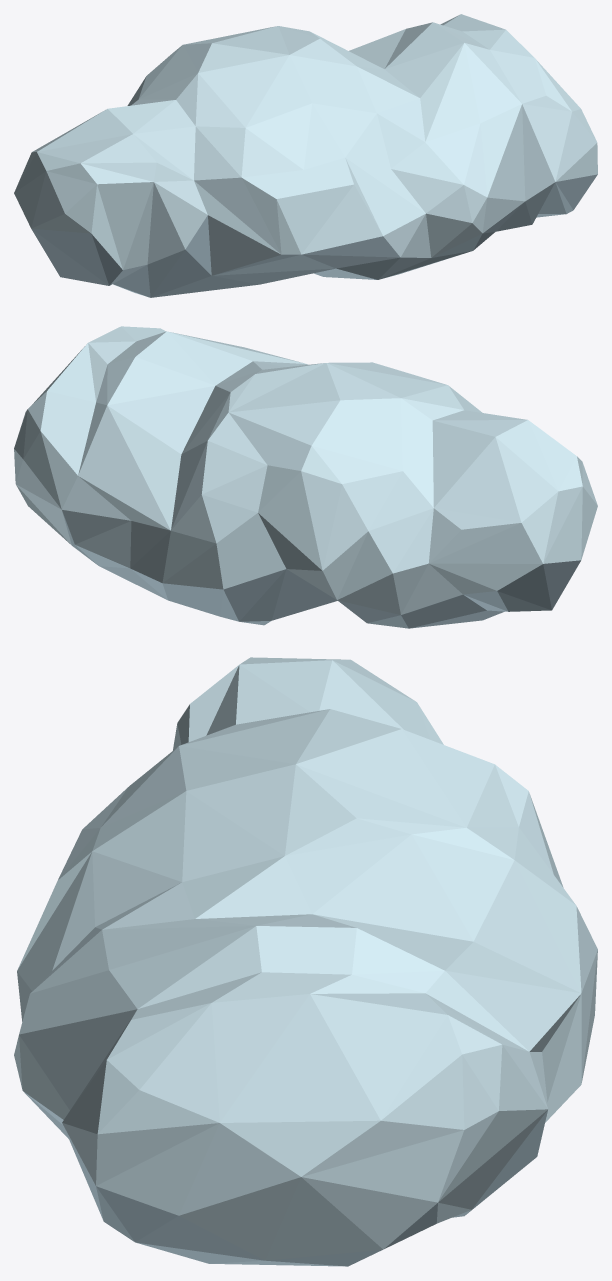
File: SM_Env_Cloud_04.fbx
3 renders of one model, top to bottom at view 1: azimuth 30°, elevation 25°; view 2: azimuth 150°, elevation 25°; view 3: azimuth 270°, elevation 25°, orthographic. The views are drawn at different scales.
Visible parts, largest first — view 1: SM_Env_Cloud_04; view 2: SM_Env_Cloud_04; view 3: SM_Env_Cloud_04.
Part boxes in pixels (x1,y1,x2,y2): SM_Env_Cloud_04: (14, 14, 597, 297); SM_Env_Cloud_04: (14, 326, 597, 628); SM_Env_Cloud_04: (14, 657, 597, 1266).
Bounding box in the file's own units: 0.055 × 0.0231 × 0.0325.
1 material, 1 textured.
